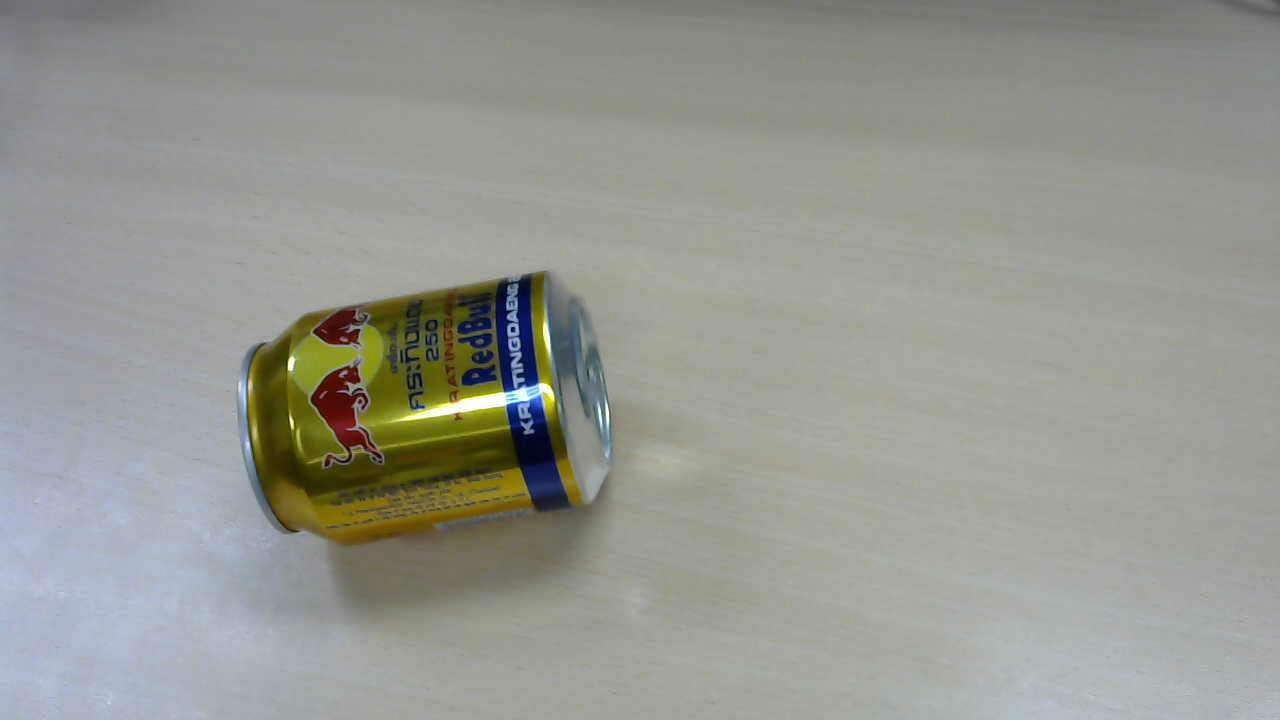Red_Bull: (240, 277, 619, 551)
